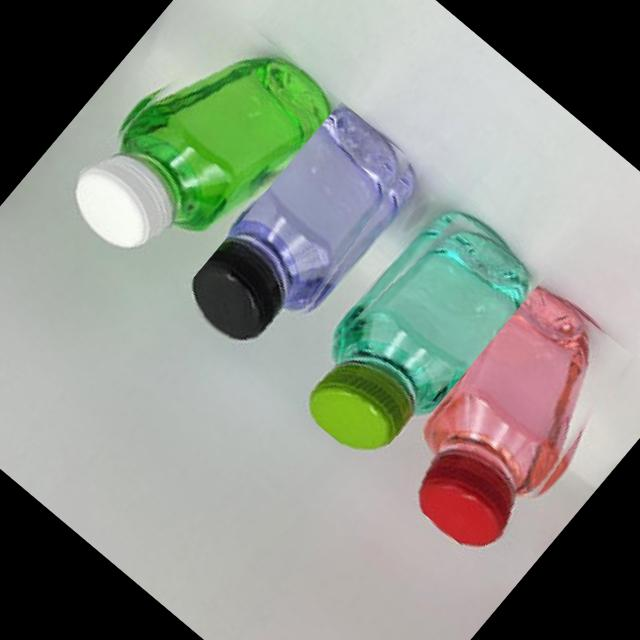plastic bottle: (54, 0, 341, 298), (370, 272, 640, 566), (280, 191, 546, 474), (166, 93, 430, 373)
